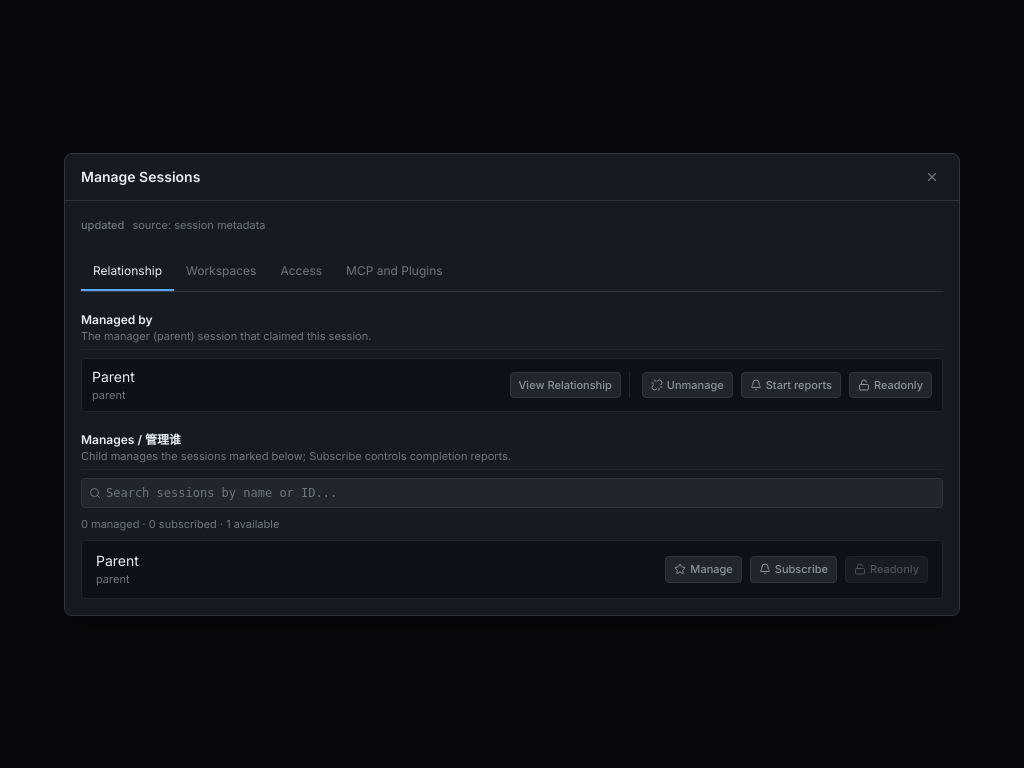
ManageModal › opens the Managed by Session relationship in the same desktop Manage modal
This screenshot has width=1024, height=768.
Click the button with aria-label "View Relationship for Parent" at (565, 385), box [510, 372, 621, 398]
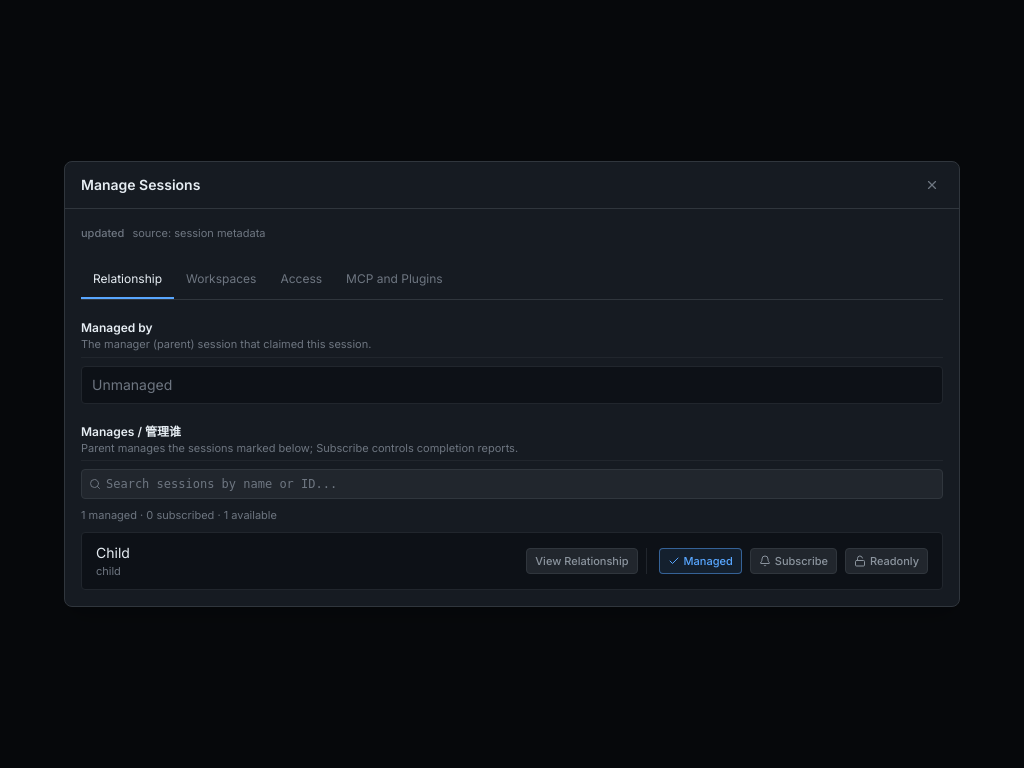
Now the text "Parent manages the sessions marked below" is shown, box [81, 441, 518, 455]
Now the text "child" is shown, box [96, 564, 121, 578]
